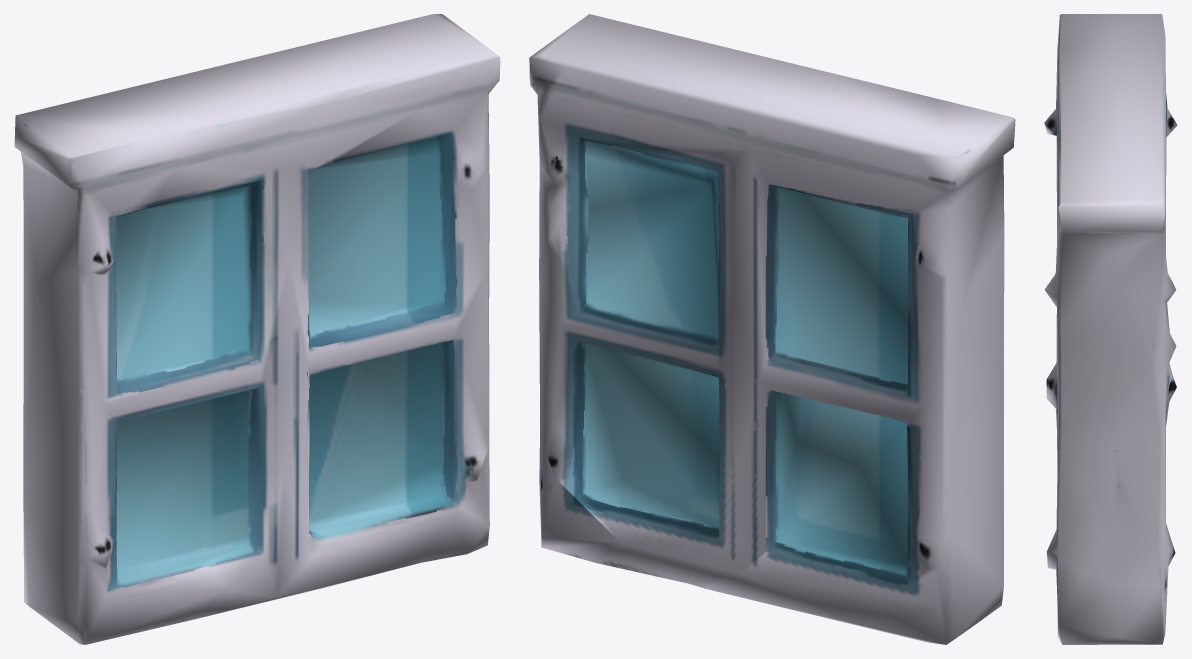
The model's file is casement-window.glb.
3 renders of one model, left to right at view 1: azimuth 30°, elevation 25°; view 2: azimuth 150°, elevation 25°; view 3: azimuth 270°, elevation 25°, orthographic. The views are drawn at different scales.
Parts seen in each view (by area): view 1: geometry_0.001; view 2: geometry_0.001; view 3: geometry_0.001.
Boxes of the visible parts, x1,y1,x2,y2 form: geometry_0.001: [14, 14, 500, 644]; geometry_0.001: [529, 14, 1015, 644]; geometry_0.001: [1044, 14, 1177, 644].
Size of the model in its own units: 0.9173 by 0.9996 by 0.2695.
Materials: 1 (1 with a texture image).
